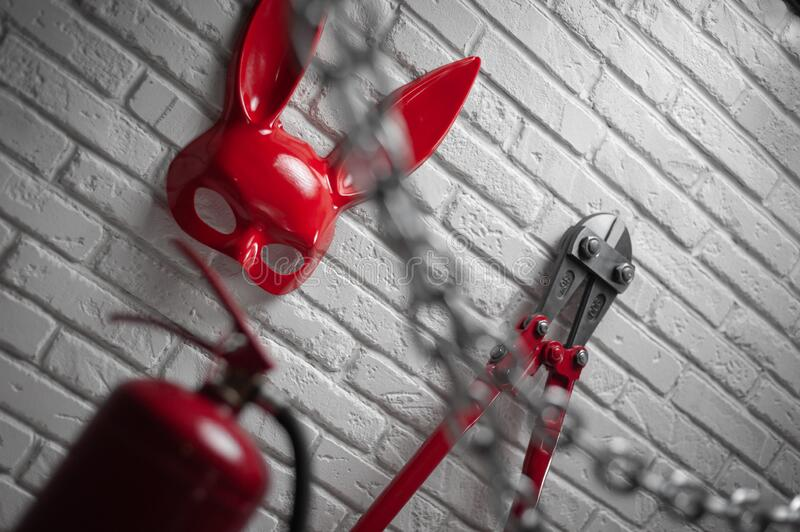fire_extinguisher: (164, 1, 482, 296), (13, 237, 309, 531)
